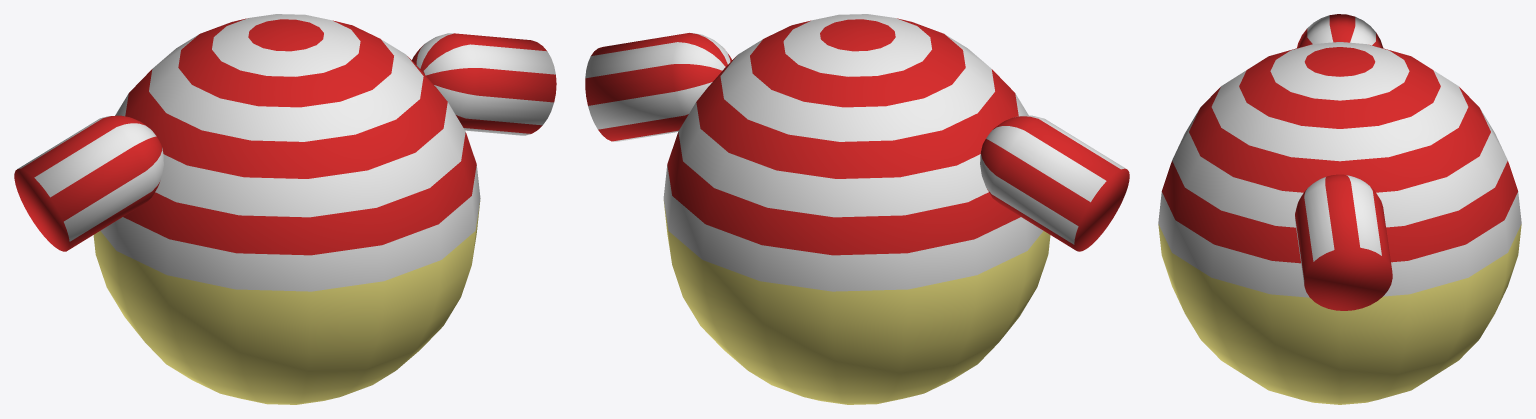
Rendered from target2.dae.
3 views of the same model, side by side, from view 1: azimuth 30°, elevation 25°; view 2: azimuth 150°, elevation 25°; view 3: azimuth 270°, elevation 25° (orthographic). The views are drawn at different scales.
Visible parts, largest first — view 1: TARGET; view 2: TARGET; view 3: TARGET.
Boxes of the visible parts, x1,y1,x2,y2 form: TARGET: [14, 14, 556, 404]; TARGET: [585, 14, 1129, 404]; TARGET: [1158, 14, 1521, 404].
Bounding box in the file's own units: 3.04 × 2 × 2.
